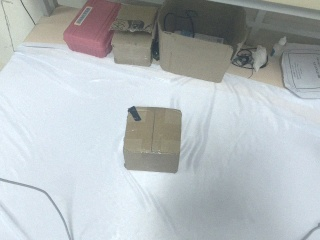box: (155, 2, 246, 84), (122, 105, 182, 174), (109, 1, 156, 68), (61, 1, 114, 57)
